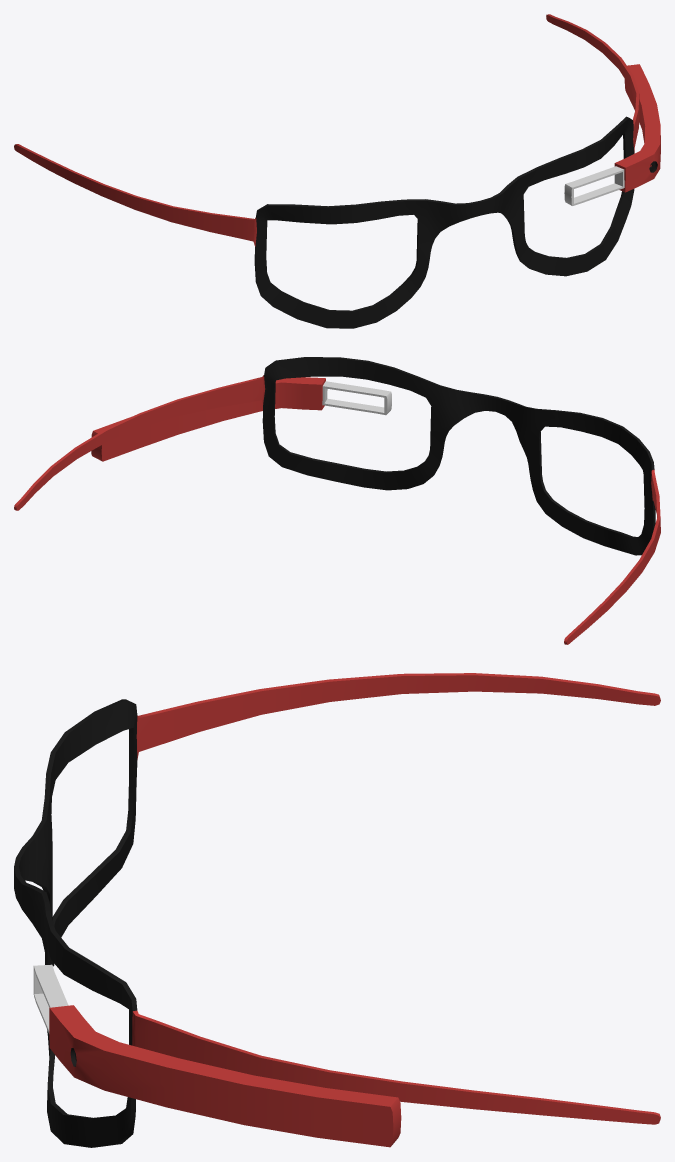
3 views of the same model, one above another, from view 1: azimuth 30°, elevation 25°; view 2: azimuth 150°, elevation 25°; view 3: azimuth 270°, elevation 25° (orthographic). The views are drawn at different scales.
Visible parts, largest first — view 1: smart_glass; view 2: smart_glass; view 3: smart_glass.
Part boxes in pixels (x1,y1,x2,y2): smart_glass: [14, 14, 660, 328]; smart_glass: [14, 357, 660, 644]; smart_glass: [14, 673, 660, 1147].
Size of the model in its own units: 2.02 by 0.4406 by 1.29.
